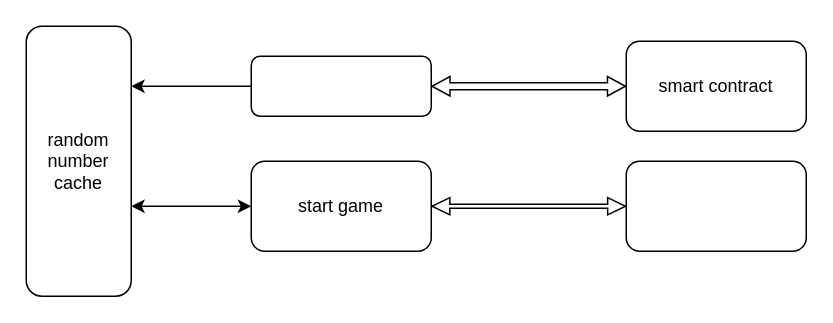
This 833x323 diagram has some shape labels left out. Here are the shapes that lost their labels. From the top down, the box of each, then its label:
(250, 55, 431, 116): get random number
(625, 160, 806, 251): user's interaction
